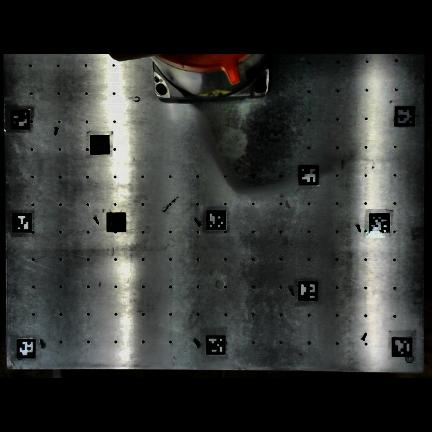black_screw: (288, 287, 293, 295), (194, 219, 200, 225), (359, 332, 366, 337), (39, 338, 44, 343), (193, 338, 196, 343), (357, 228, 360, 232), (92, 216, 96, 219), (56, 126, 58, 132)
marker: (394, 107, 415, 128), (12, 213, 32, 234), (370, 214, 390, 234), (299, 166, 319, 186), (298, 282, 318, 302), (206, 337, 226, 357), (10, 111, 29, 132), (207, 210, 226, 231), (392, 338, 412, 357), (17, 339, 36, 359), (107, 213, 126, 232), (90, 136, 109, 154)
